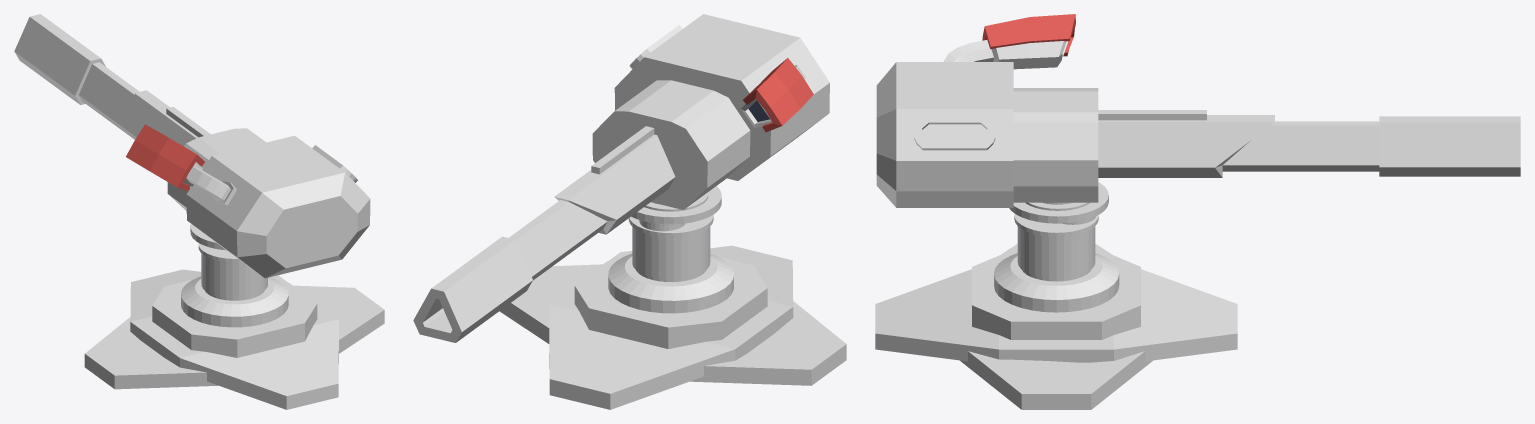
Rendered from Turret.fbx.
3 renders of one model, left to right at view 1: azimuth 30°, elevation 25°; view 2: azimuth 150°, elevation 25°; view 3: azimuth 270°, elevation 25°, orthographic. The views are drawn at different scales.
Visible parts, largest first — view 1: Circle.003, Circle.001; view 2: Circle.003, Circle.001; view 3: Circle.003, Circle.001.
Boxes of the visible parts, box(x1,y1,x2,y2) form: Circle.003: box(14, 14, 370, 300); Circle.001: box(84, 269, 384, 409); Circle.003: box(413, 14, 829, 342); Circle.001: box(499, 245, 846, 409); Circle.003: box(876, 14, 1520, 281); Circle.001: box(875, 244, 1237, 409).
Bounding box in the file's own units: 489 × 409 × 871.
